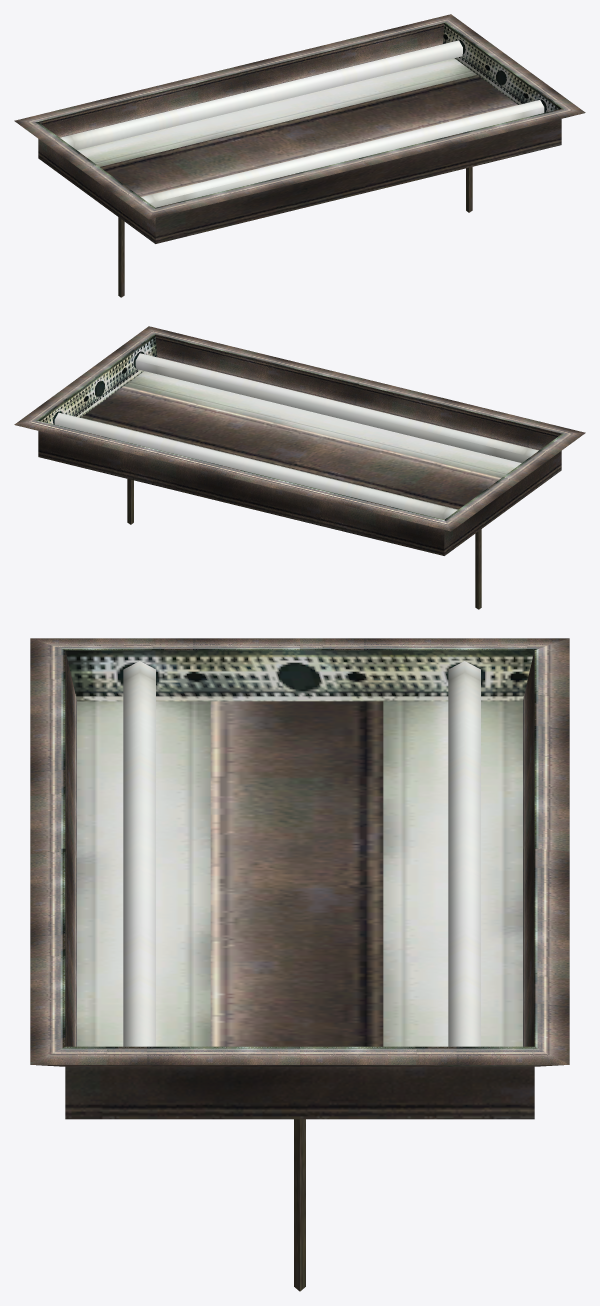
Rendered from hang_slum5.fbx.
3 renders of one model, top to bottom at view 1: azimuth 30°, elevation 25°; view 2: azimuth 150°, elevation 25°; view 3: azimuth 270°, elevation 25°, orthographic. The views are drawn at different scales.
Parts seen in each view (by area): view 1: mesh_0; view 2: mesh_0; view 3: mesh_0.
Part boxes in pixels (<box>): mesh_0: <box>14,14,585,297</box>; mesh_0: <box>14,326,585,609</box>; mesh_0: <box>30,638,569,1291</box>.
Size of the model in its own units: 172 by 51.7 by 92.
1 material, 1 textured.
